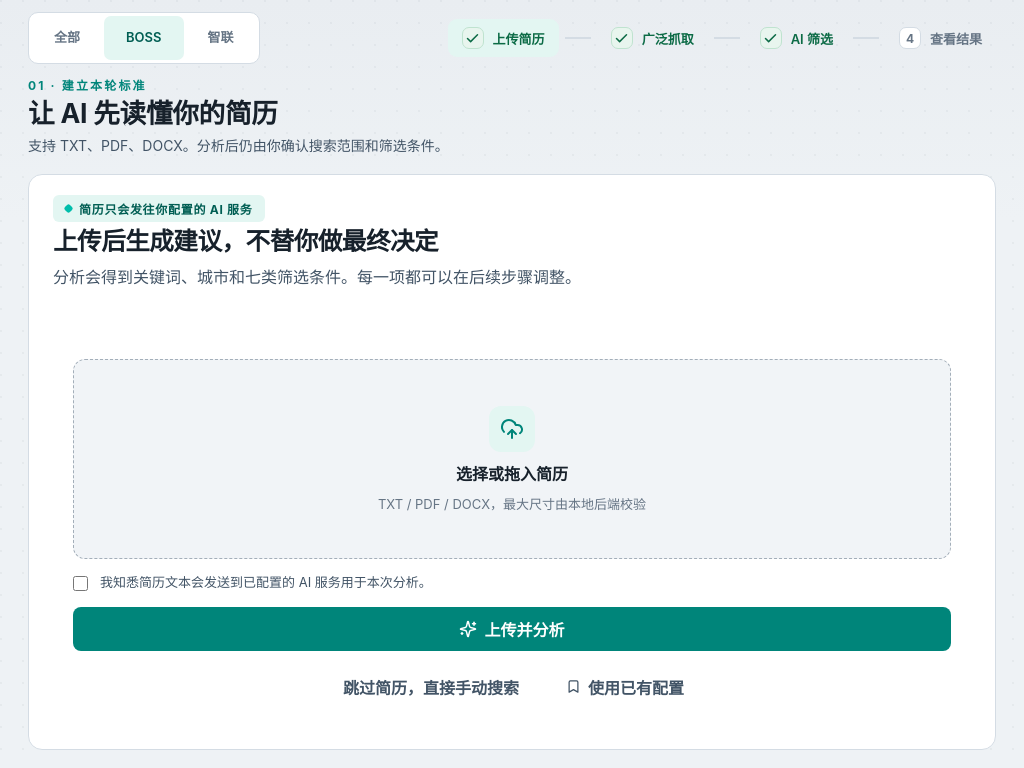
Test: DiscoveryView › 039: 恢复上一轮时面板显示真实完成/跳过计数与失败留痕（不再 0 完成）
Click the button "广泛抓取".
click(652, 38)  # box [597,19,708,57]
(page scrolled)
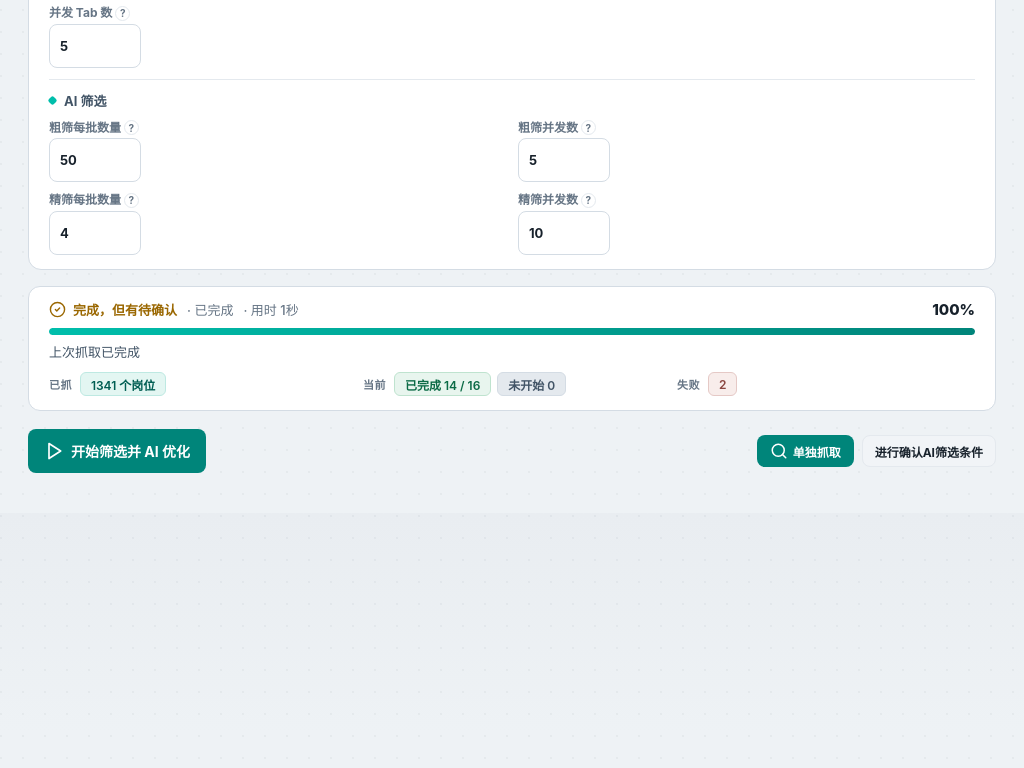
Expected: the element with class "task-progress" is shown, [28,286,996,411]
Expected: the element with class "task-progress" shows "已完成 14 / 16", [405,378,480,393]
Expected: the element with class "task-progress" shows "未开始 0", [508,378,555,393]
# 悬停失败数字：逐条显示该轮真实失败原因
Hover over the element with test id "fail-count-group".
mouse_move(707, 384)  # box [677,372,737,396]
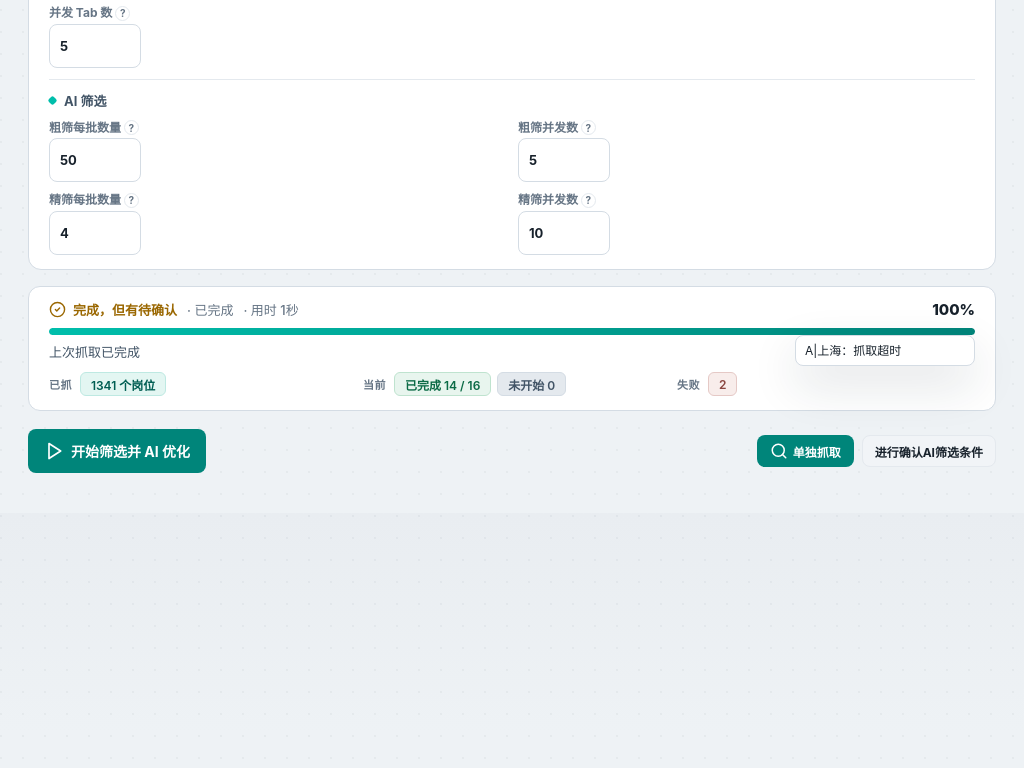
Expected: the tooltip with test id "fail-tooltip" reads "A|上海：抓取超时", [805,343,901,358]
